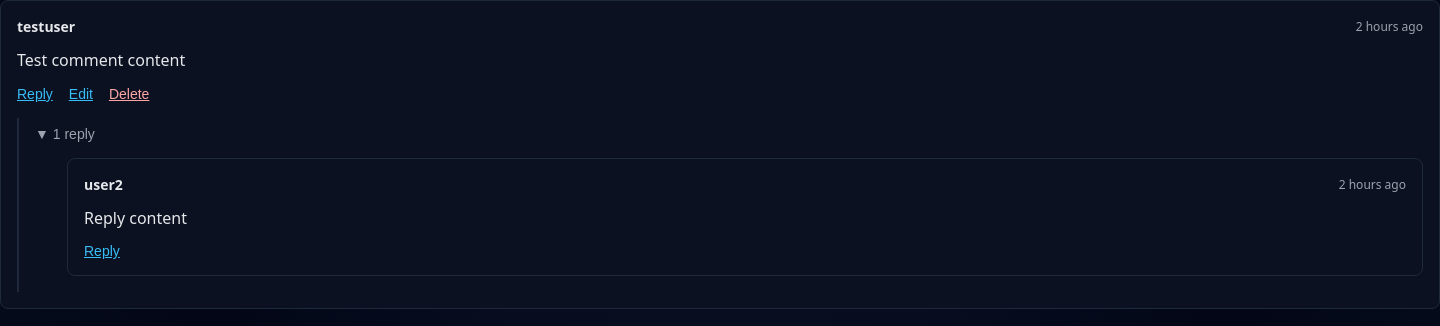
Test case: CommentItem › toggles replies visibility
Expected: the text "Reply content" is shown, [84,207,187,229]
Click toggle
Click the button "▼ 1 reply".
click(65, 134)  # box [35,118,95,150]
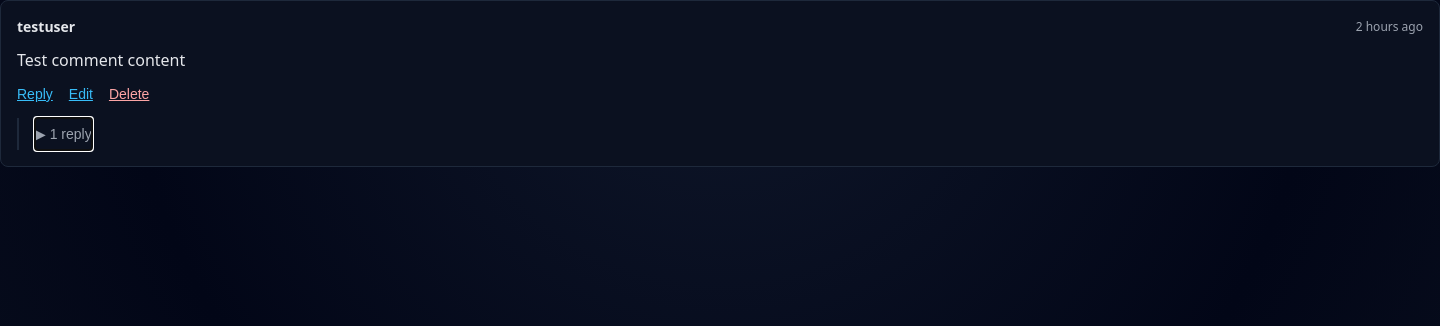
Expected: the text "Reply content" is gone
